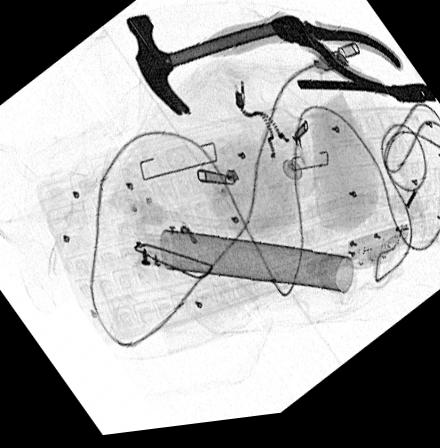Hammer: (125, 17, 299, 121)
Pliers: (267, 23, 403, 112)
Wrench: (294, 87, 437, 112)
